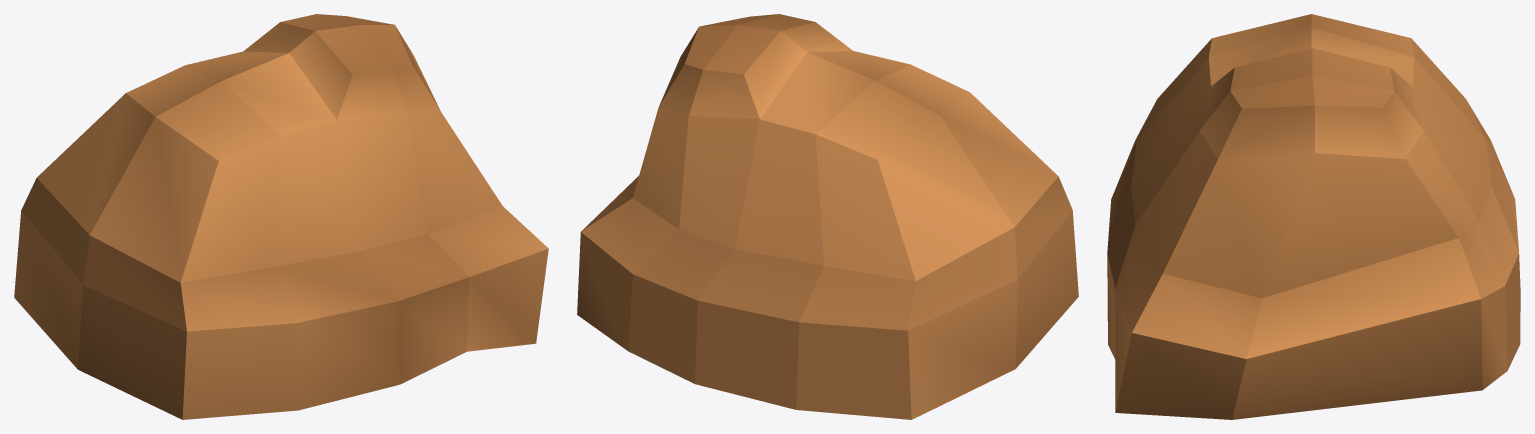
File: Rock_Desert05.fbx
3 views of the same model, side by side, from view 1: azimuth 30°, elevation 25°; view 2: azimuth 150°, elevation 25°; view 3: azimuth 270°, elevation 25° (orthographic). The views are drawn at different scales.
Parts seen in each view (by area): view 1: Rock_Desert05_LOD0; view 2: Rock_Desert05_LOD0; view 3: Rock_Desert05_LOD0.
Boxes of the visible parts, box(x1,y1,x2,y2) form: Rock_Desert05_LOD0: box(14, 14, 548, 419); Rock_Desert05_LOD0: box(577, 14, 1078, 419); Rock_Desert05_LOD0: box(1107, 14, 1520, 419).
Size of what is drawn, in the model's own units: 95.5 by 65.99 by 79.14.
